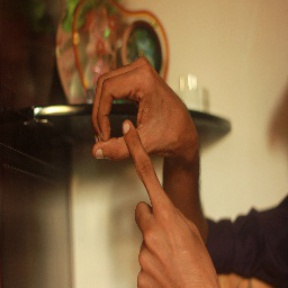Q: (88, 60, 203, 239)
